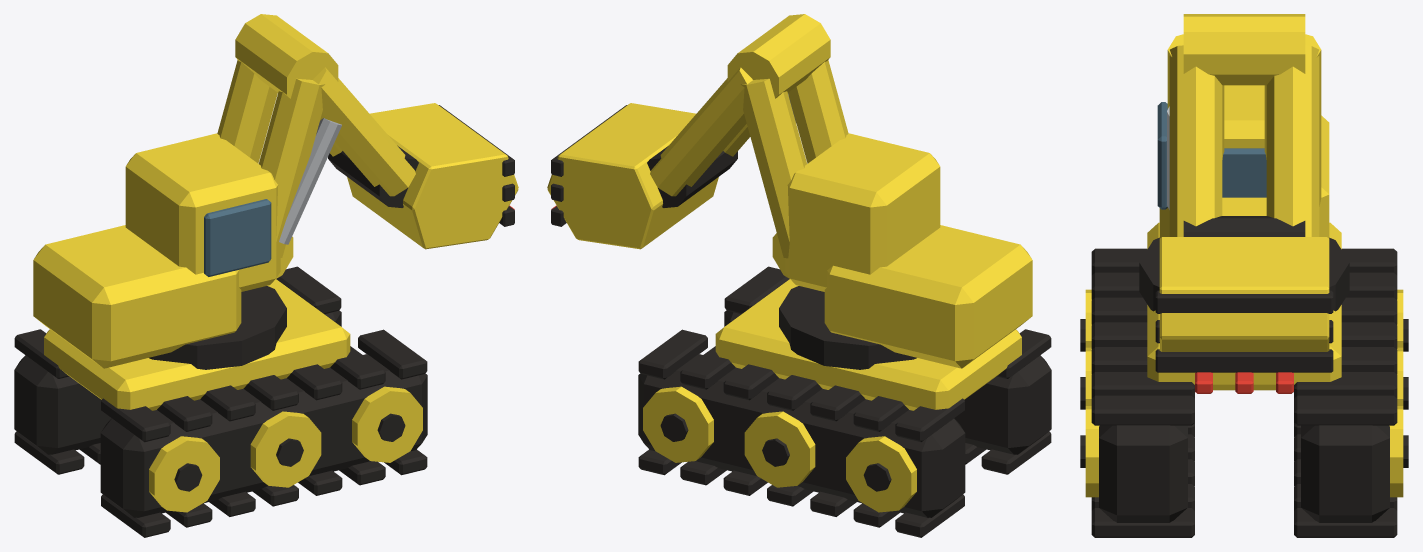
File: machinery.glb
3 renders of one model, left to right at view 1: azimuth 30°, elevation 25°; view 2: azimuth 150°, elevation 25°; view 3: azimuth 270°, elevation 25°, orthographic. The views are drawn at different scales.
Parts seen in each view (by area): view 1: machinery-engine-house, machinery-left-track-shell, machinery-cab, machinery-hanging-bucket, machinery-undercarriage, machinery-right-track-shell, machinery-boom-upper-l, machinery-stick-l, machinery-elbow-pivot, machinery-slew-ring, machinery-side-glass, machinery-left-road-wheel-1 (+25 smaller); view 2: machinery-engine-house, machinery-cab, machinery-right-track-shell, machinery-hanging-bucket, machinery-undercarriage, machinery-left-track-shell, machinery-boom-upper-r, machinery-stick-r, machinery-elbow-pivot, machinery-slew-ring, machinery-right-road-wheel-1, machinery-right-road-wheel-0 (+23 smaller); view 3: machinery-hanging-bucket, machinery-stick-l, machinery-stick-r, machinery-left-track-shell, machinery-right-track-shell, machinery-elbow-pivot, machinery-bucket-stripe-2, machinery-undercarriage, machinery-bucket-stripe-0, machinery-left-top-grouser-6, machinery-right-top-grouser-6, machinery-cab (+29 smaller).
Part boxes in pixels (box(x1,y1,x2,y2)): machinery-engine-house: box(33, 225, 241, 368); machinery-left-track-shell: box(100, 354, 427, 517); machinery-cab: box(125, 133, 280, 291); machinery-hanging-bucket: box(347, 103, 518, 249); machinery-undercarriage: box(44, 279, 350, 410); machinery-right-track-shell: box(14, 310, 341, 454); machinery-boom-upper-l: box(259, 78, 324, 258); machinery-stick-l: box(313, 67, 415, 196); machinery-elbow-pivot: box(235, 14, 338, 98); machinery-slew-ring: box(149, 286, 286, 369); machinery-side-glass: box(204, 199, 271, 276); machinery-left-road-wheel-1: box(250, 411, 321, 487); machinery-engine-house: box(824, 225, 1032, 368); machinery-cab: box(785, 133, 940, 291); machinery-right-track-shell: box(638, 354, 965, 517); machinery-hanging-bucket: box(547, 103, 718, 249); machinery-undercarriage: box(715, 279, 1021, 410); machinery-left-track-shell: box(724, 310, 1051, 454); machinery-boom-upper-r: box(741, 78, 806, 258); machinery-stick-r: box(650, 67, 752, 196); machinery-elbow-pivot: box(727, 14, 830, 98); machinery-slew-ring: box(779, 286, 916, 369); machinery-right-road-wheel-1: box(744, 411, 815, 487); machinery-right-road-wheel-0: box(846, 436, 916, 512); machinery-hanging-bucket: box(1159, 237, 1329, 351); machinery-stick-l: box(1169, 45, 1222, 236); machinery-stick-r: box(1266, 45, 1319, 236); machinery-left-track-shell: box(1099, 425, 1187, 522); machinery-right-track-shell: box(1301, 425, 1389, 522); machinery-elbow-pivot: box(1183, 14, 1305, 85); machinery-bucket-stripe-2: box(1155, 349, 1333, 372); machinery-undercarriage: box(1147, 222, 1341, 390); machinery-bucket-stripe-0: box(1155, 290, 1333, 313); machinery-left-top-grouser-6: box(1091, 395, 1194, 425); machinery-right-top-grouser-6: box(1294, 395, 1397, 425); machinery-cab: box(1167, 85, 1321, 236).
Bounding box in the file's own units: 1.11 × 1 × 0.622.
